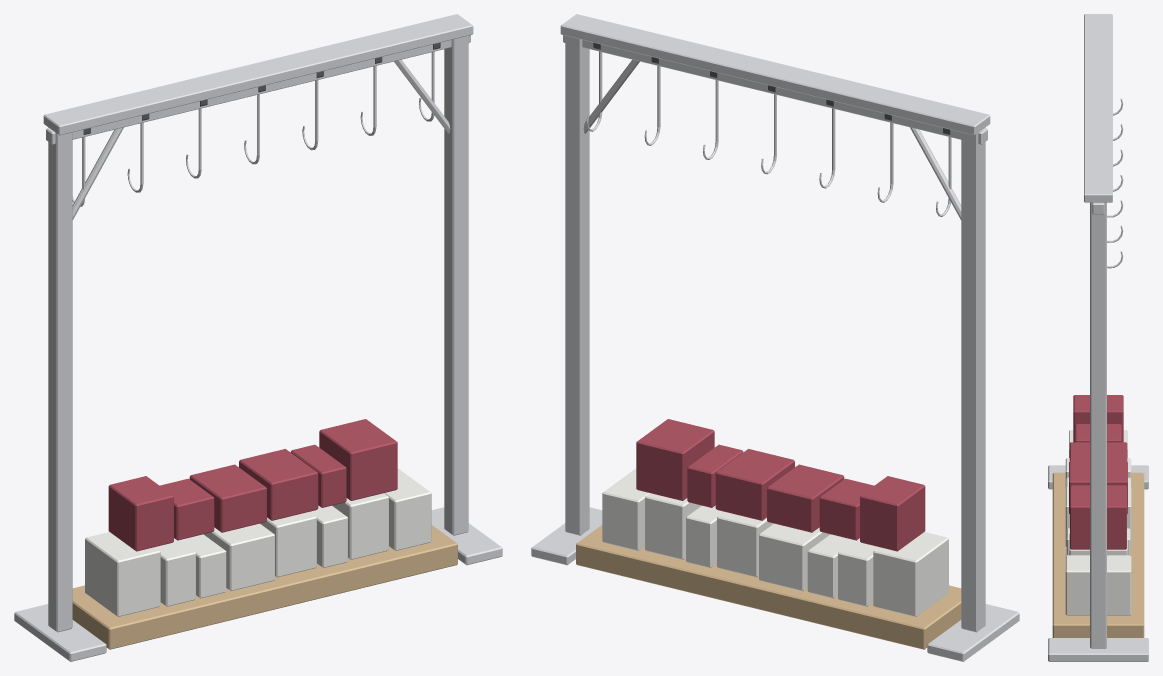
File: butchers-shop-and-deli-counter-chiller-hanging-rail-23b4d1cf__34462.glb
The picture shows the model from 3 angles, left to right: view 1: azimuth 30°, elevation 25°; view 2: azimuth 150°, elevation 25°; view 3: azimuth 270°, elevation 25°; orthographic projection. The views are drawn at different scales.
Parts seen in each view (by area): view 1: chiller-hanging-rail; view 2: chiller-hanging-rail; view 3: chiller-hanging-rail.
Part boxes in pixels (box(x1,y1,x2,y2)): chiller-hanging-rail: box(14, 14, 502, 661); chiller-hanging-rail: box(531, 14, 1019, 661); chiller-hanging-rail: box(1048, 14, 1148, 661).
Size of the model in its own units: 1.86 by 2.13 by 0.4199.
